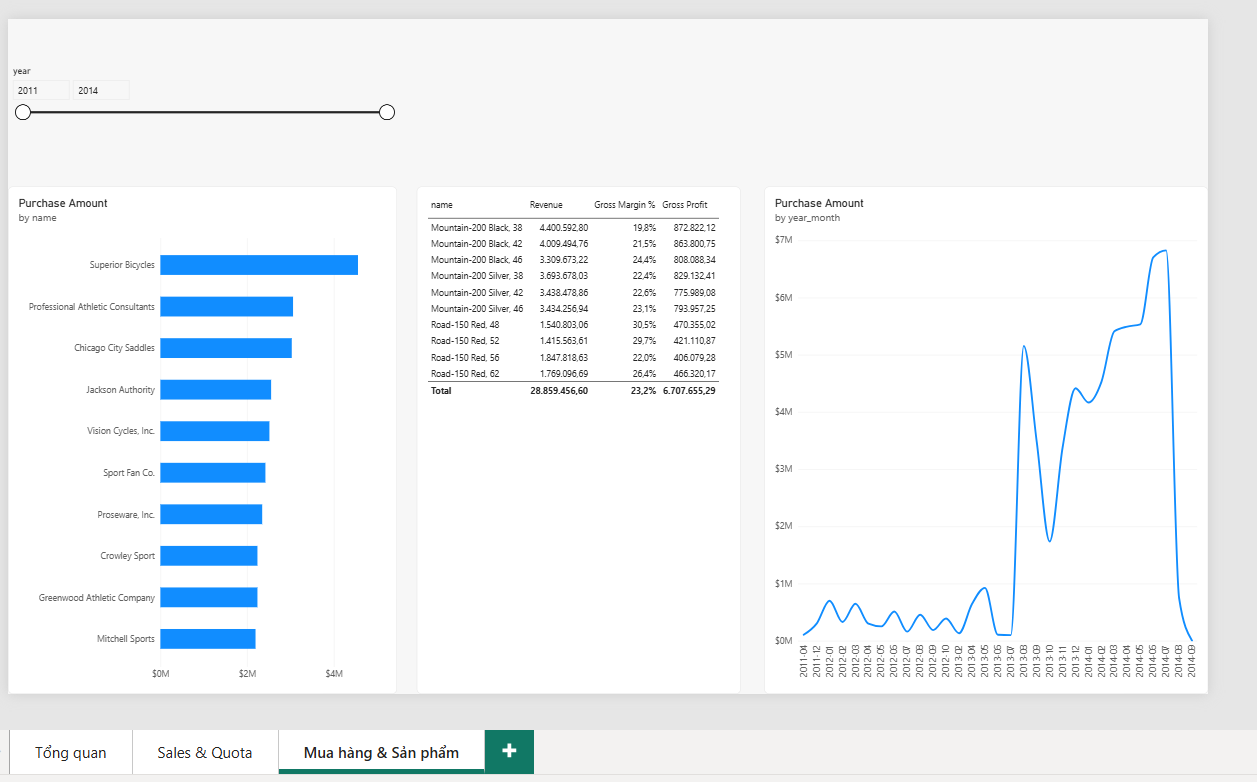

Layout of this report page (visuals, bound fields, positions):
{"tool":"powerbi","page":{"name":"Mua hàng & Sản phẩm","canvas":[1920,1080],"ordinal":2},"visuals":[{"type":"slicer","fields":{"Values":["dim_date.year"]},"box":[0,74,622,146],"z":0},{"type":"clusteredBarChart","fields":{"Category":["dim_vendor.name"],"Y":["_Measures.Purchase Amount"]},"box":[0,268,622,812],"z":1},{"type":"tableEx","fields":{"Values":["dim_product.name","_Measures.Revenue","_Measures.Gross Margin %","_Measures.Gross Profit"]},"box":[654,268,518,812],"z":2},{"type":"lineChart","fields":{"Category":["dim_date.year_month"],"Y":["_Measures.Purchase Amount"]},"box":[1210,268,710,812],"z":3}]}

Visuals, with their boxes on the page's 1920x1080 design canvas (x1, y1, x2, y2). These are canvas units, not pixel positions in the 1257x782 screenshot, which may show the page scaled, cropped or inside an application window:
slicer - dim_date.year: detection(0, 74, 622, 220)
clusteredBarChart - dim_vendor.name x _Measures.Purchase Amount: detection(0, 268, 622, 1080)
tableEx - dim_product.name x _Measures.Revenue: detection(654, 268, 1172, 1080)
lineChart - dim_date.year_month x _Measures.Purchase Amount: detection(1210, 268, 1920, 1080)
